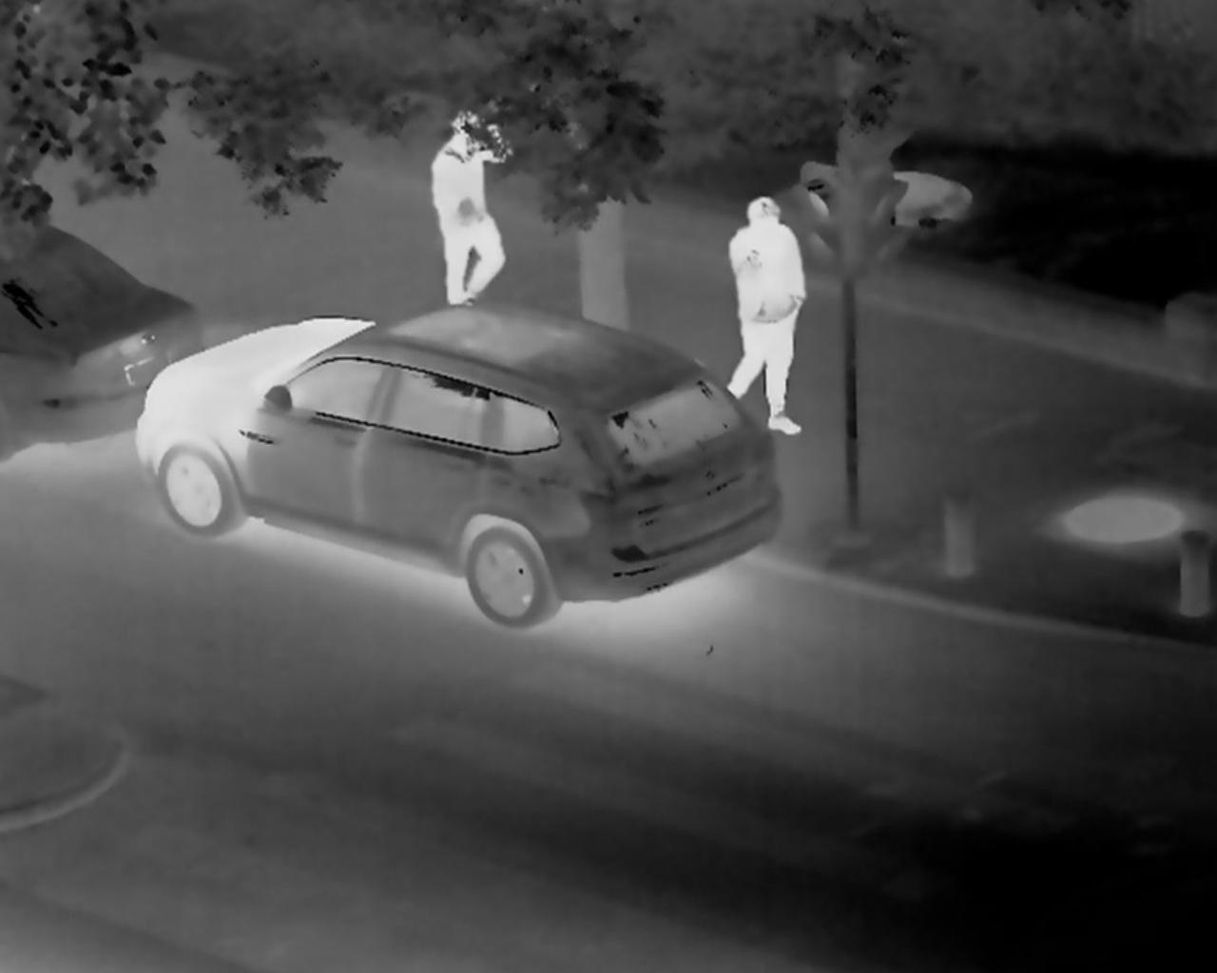person: (720, 198, 809, 442), (420, 103, 511, 315)
